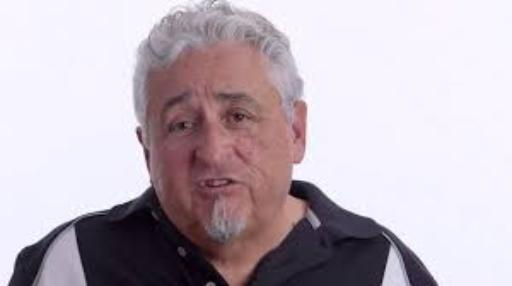left_eye: (222, 111, 254, 126)
left_lip_corner: (231, 177, 244, 189)
right_eye: (169, 120, 195, 136)
